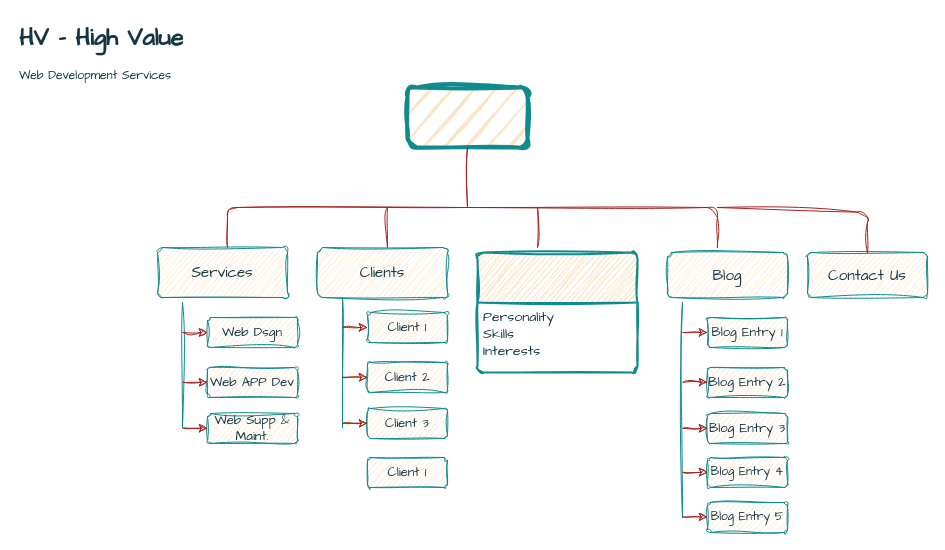
Some shapes in this 945 by 550 pixel diagram are drawn without their labels. The shapes that lost their labels are listed below. From the top down, each one's box as (x1, y1, x2, y2) in pixels, then its label:
(405, 85, 529, 149): HV - Home
(476, 251, 638, 373): About
